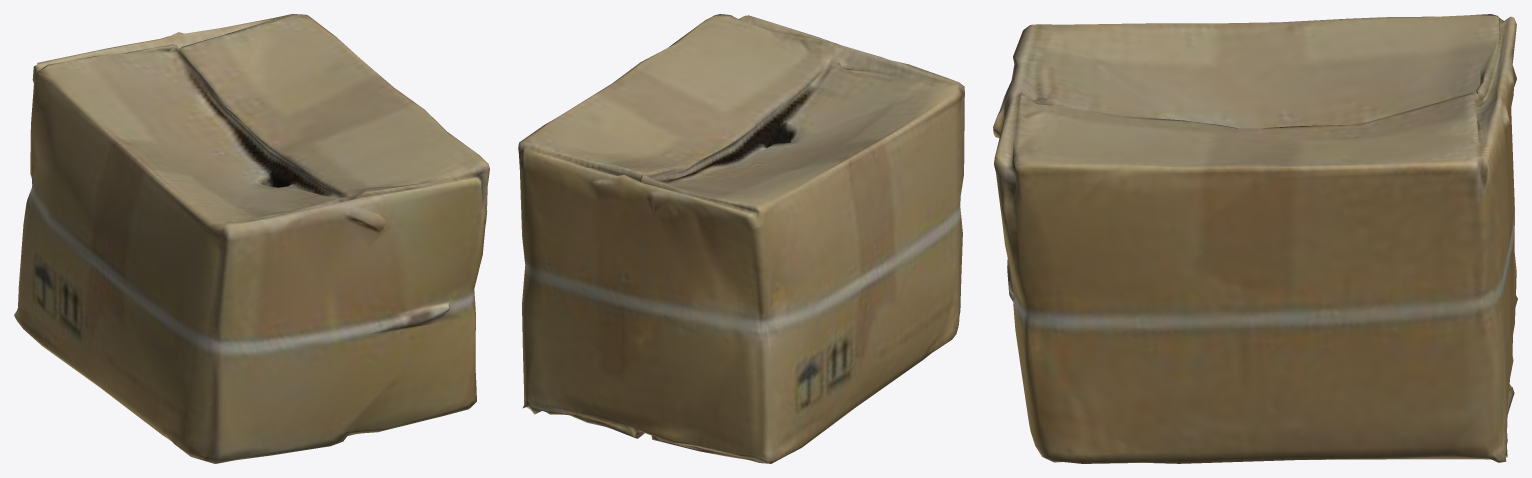
Rendered from backpack_karton.glb.
3 renders of one model, left to right at view 1: azimuth 30°, elevation 25°; view 2: azimuth 150°, elevation 25°; view 3: azimuth 270°, elevation 25°, orthographic. The views are drawn at different scales.
Bounding box in the file's own units: 0.3856 × 0.3418 × 0.5159.
1 material, 1 textured.
